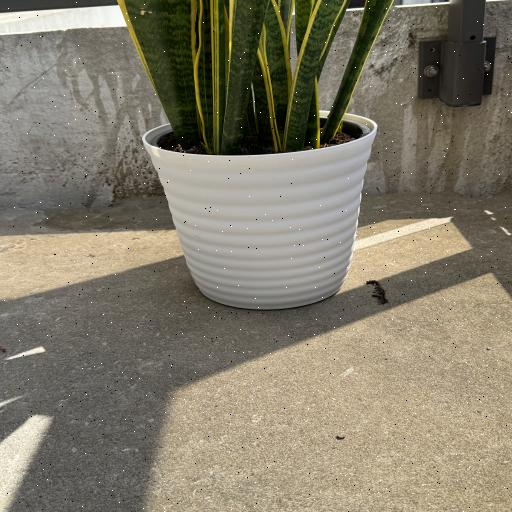Plant Pot: (141, 108, 376, 312)
